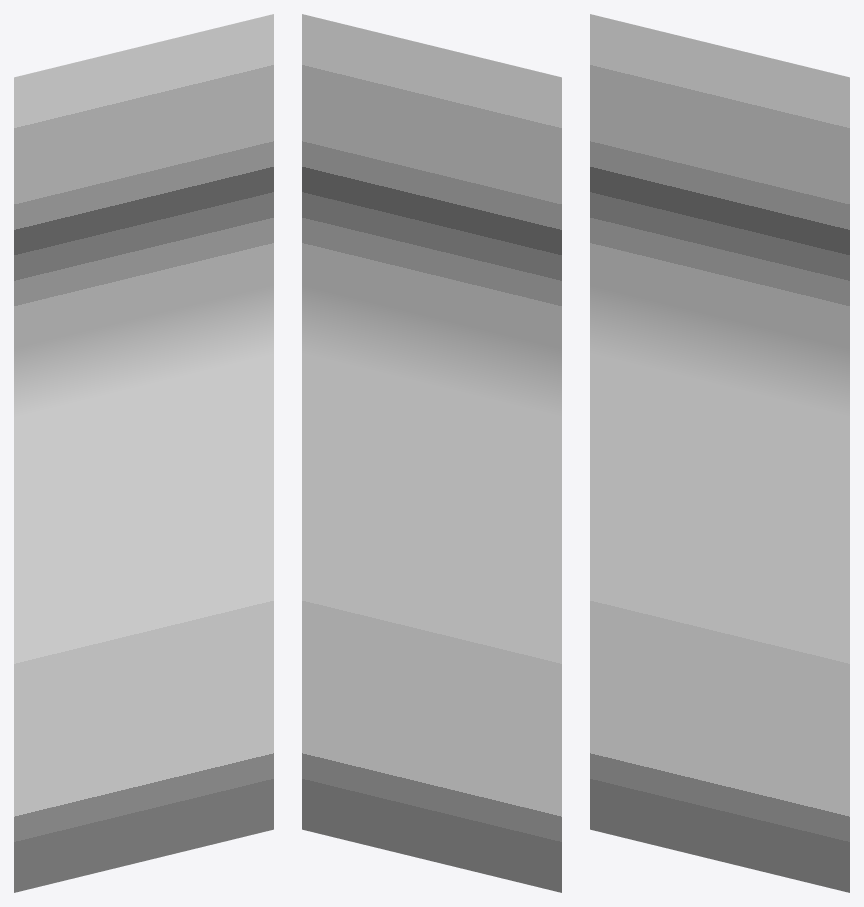
3 renders of one model, left to right at view 1: azimuth 30°, elevation 25°; view 2: azimuth 150°, elevation 25°; view 3: azimuth 330°, elevation 25°, orthographic.
Bounding box in the file's own units: 1 × 3 × 0.
Materials: 1 (1 with a texture image).
